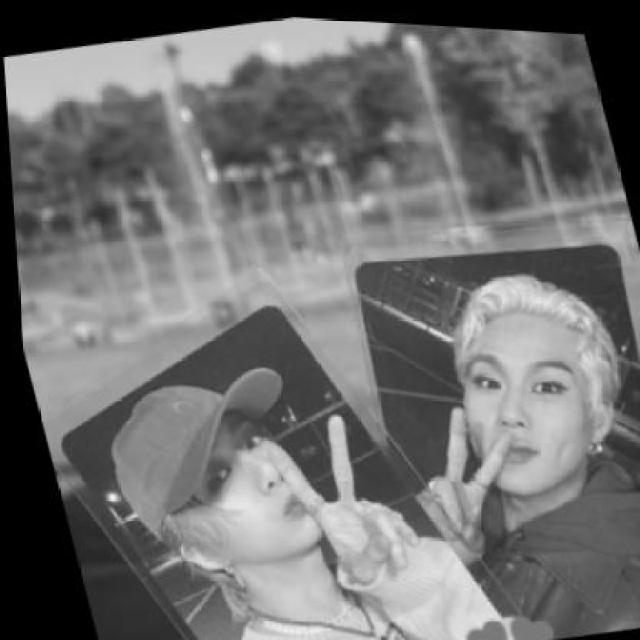hat: (80, 346, 318, 554)
